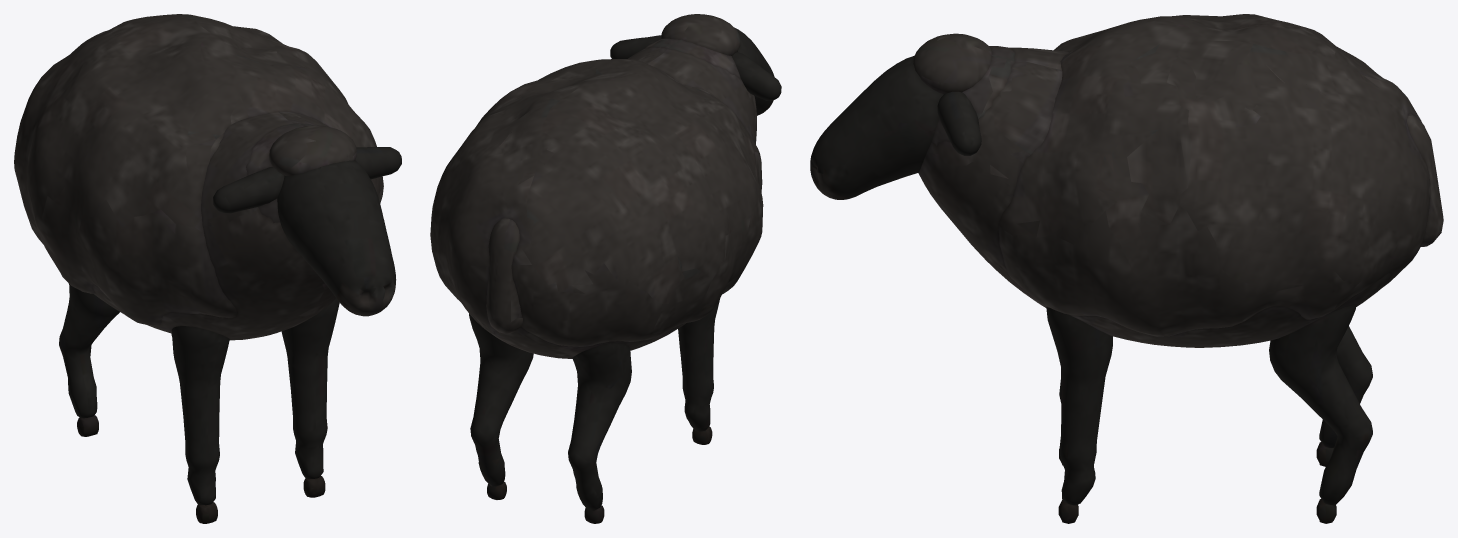
The model's file is animal_black_sheep.glb.
The picture shows the model from 3 angles, left to right: view 1: azimuth 30°, elevation 25°; view 2: azimuth 150°, elevation 25°; view 3: azimuth 270°, elevation 25°; orthographic projection. The views are drawn at different scales.
Parts seen in each view (by area): view 1: animal_black_sheep, head, leg0, leg1, leg2; view 2: animal_black_sheep, leg2, leg3, head, leg0, tail; view 3: animal_black_sheep, head, leg3, leg1, leg2, tail.
Part boxes in pixels (<box>): animal_black_sheep: <box>14,14,383,340</box>; head: <box>213,125,401,316</box>; leg0: <box>171,326,229,523</box>; leg1: <box>281,298,339,497</box>; leg2: <box>59,283,119,436</box>; animal_black_sheep: <box>430,38,763,358</box>; leg2: <box>568,343,631,523</box>; leg3: <box>469,313,533,499</box>; head: <box>610,14,781,115</box>; leg0: <box>678,298,720,444</box>; tail: <box>486,218,522,333</box>; animal_black_sheep: <box>918,14,1430,347</box>; head: <box>810,33,992,199</box>; leg3: <box>1269,305,1372,523</box>; leg1: <box>1046,307,1112,523</box>; leg2: <box>1316,326,1372,466</box>; tail: <box>1407,114,1443,246</box>.
Bounding box in the file's own units: 0.3047 × 0.4191 × 0.5169.
Materials: 1 (1 with a texture image).
